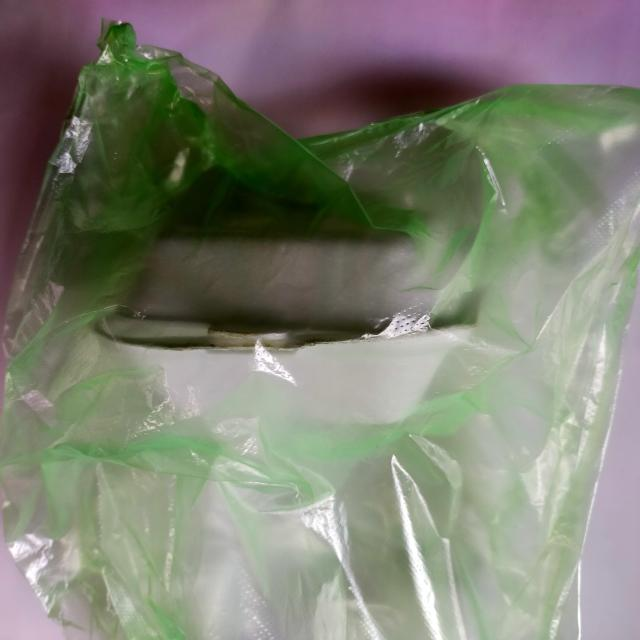styrofoam: (2, 18, 638, 638)
